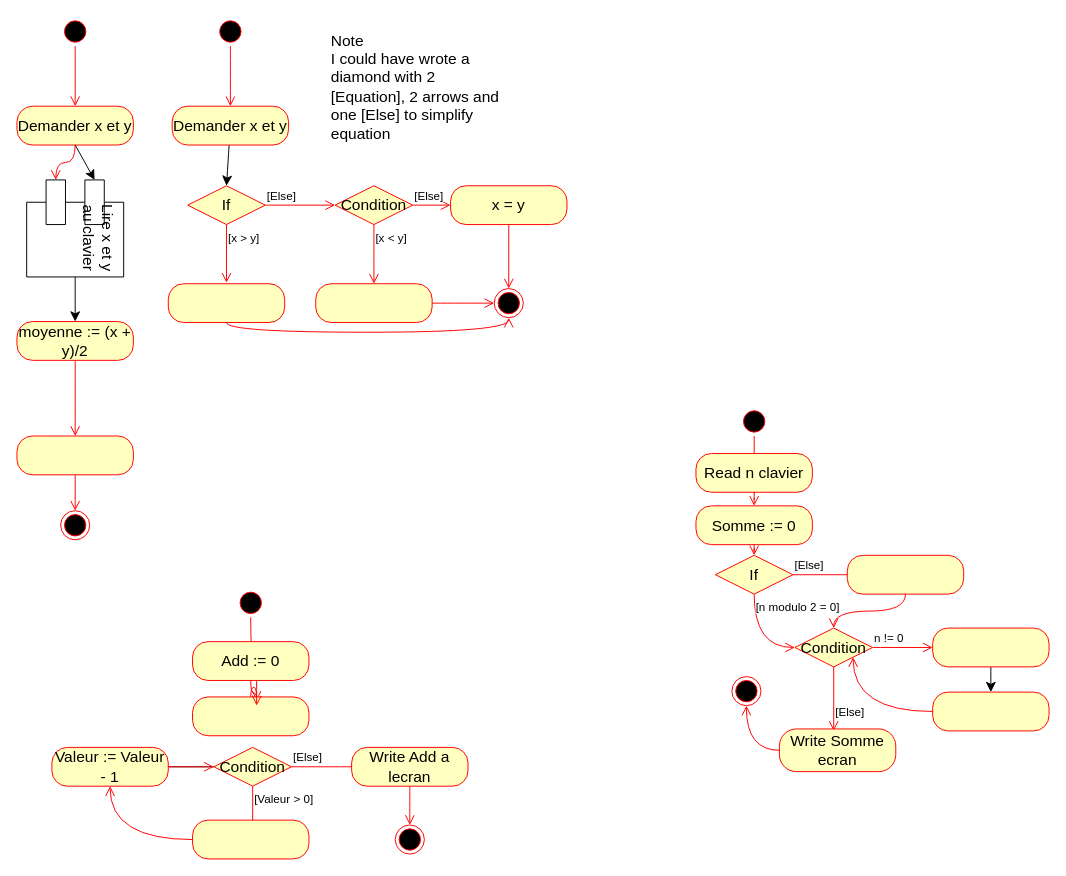
Some shapes in this 1066 by 876 pixel diagram are drawn without their labels. Each missing label, with the centre of its shape:
"Add := Add + Valeur" goes at point (250, 839).
"Ecrire moyenne a lecran" goes at point (74, 455).
"n = n - 2" goes at point (990, 711).
"n-1" goes at point (905, 574).
"Read valeur au clavier" goes at point (250, 716).
"Somme := somme + n" goes at point (990, 647).
"Write x" goes at point (226, 303).
"Write y" goes at point (373, 303).
